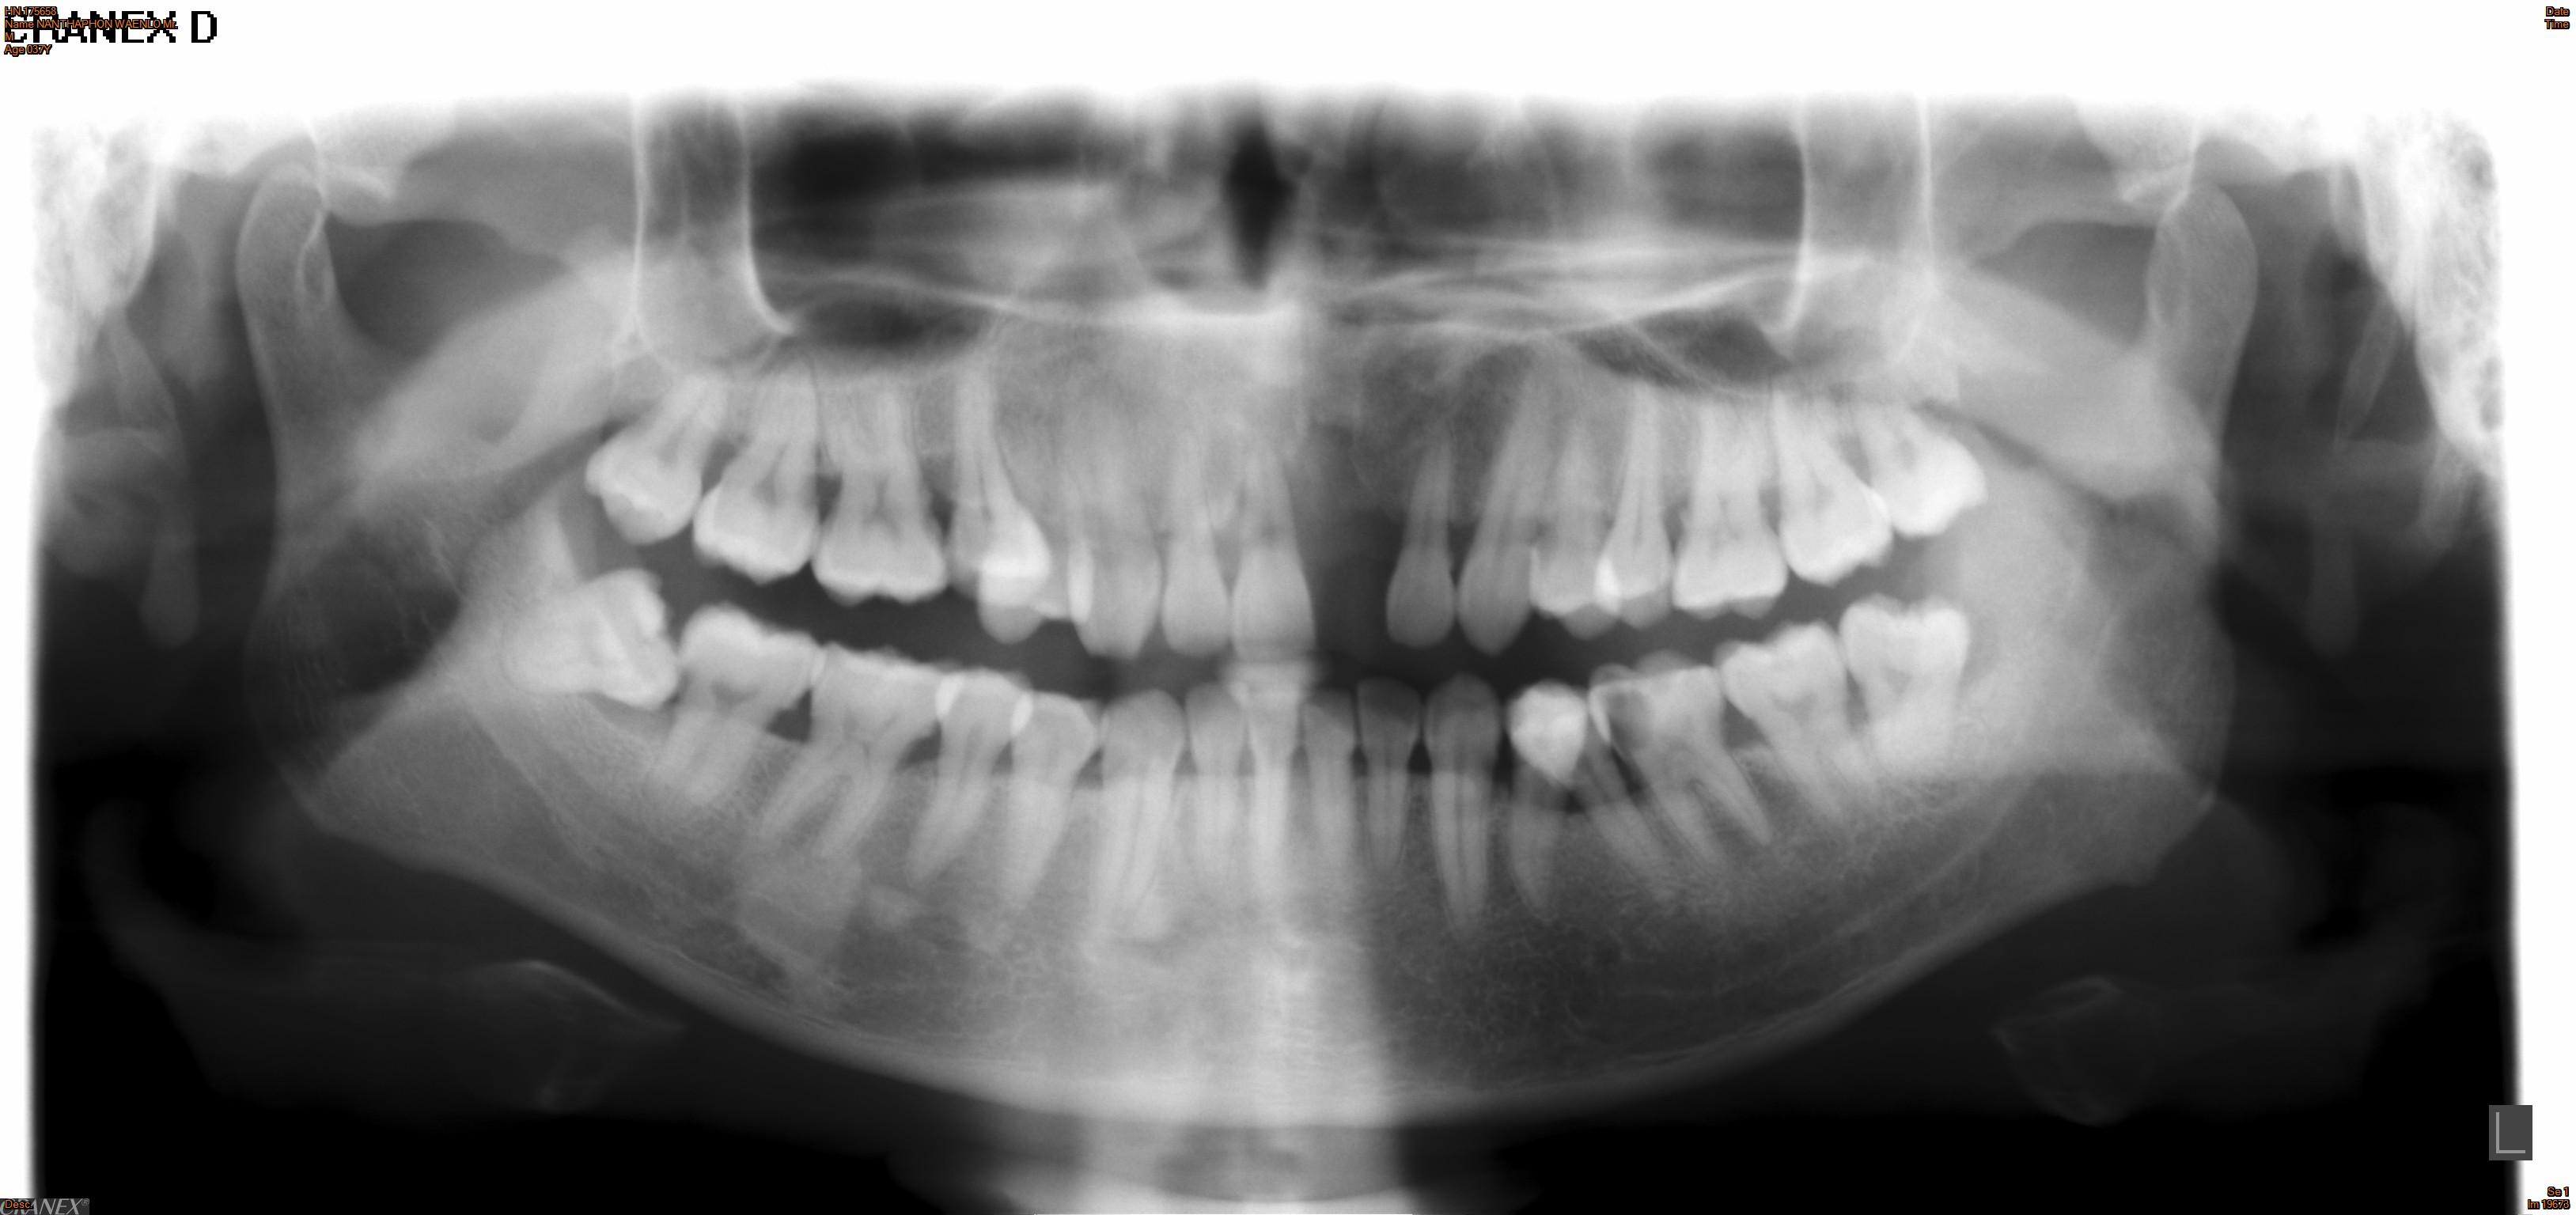periodontitis: (731, 639, 953, 864), (1482, 673, 1677, 918), (623, 603, 838, 823), (1572, 652, 1784, 870), (1717, 617, 1901, 842), (685, 345, 833, 596), (812, 364, 956, 619), (1659, 389, 1804, 630), (1755, 371, 1911, 594), (922, 360, 1058, 611)
